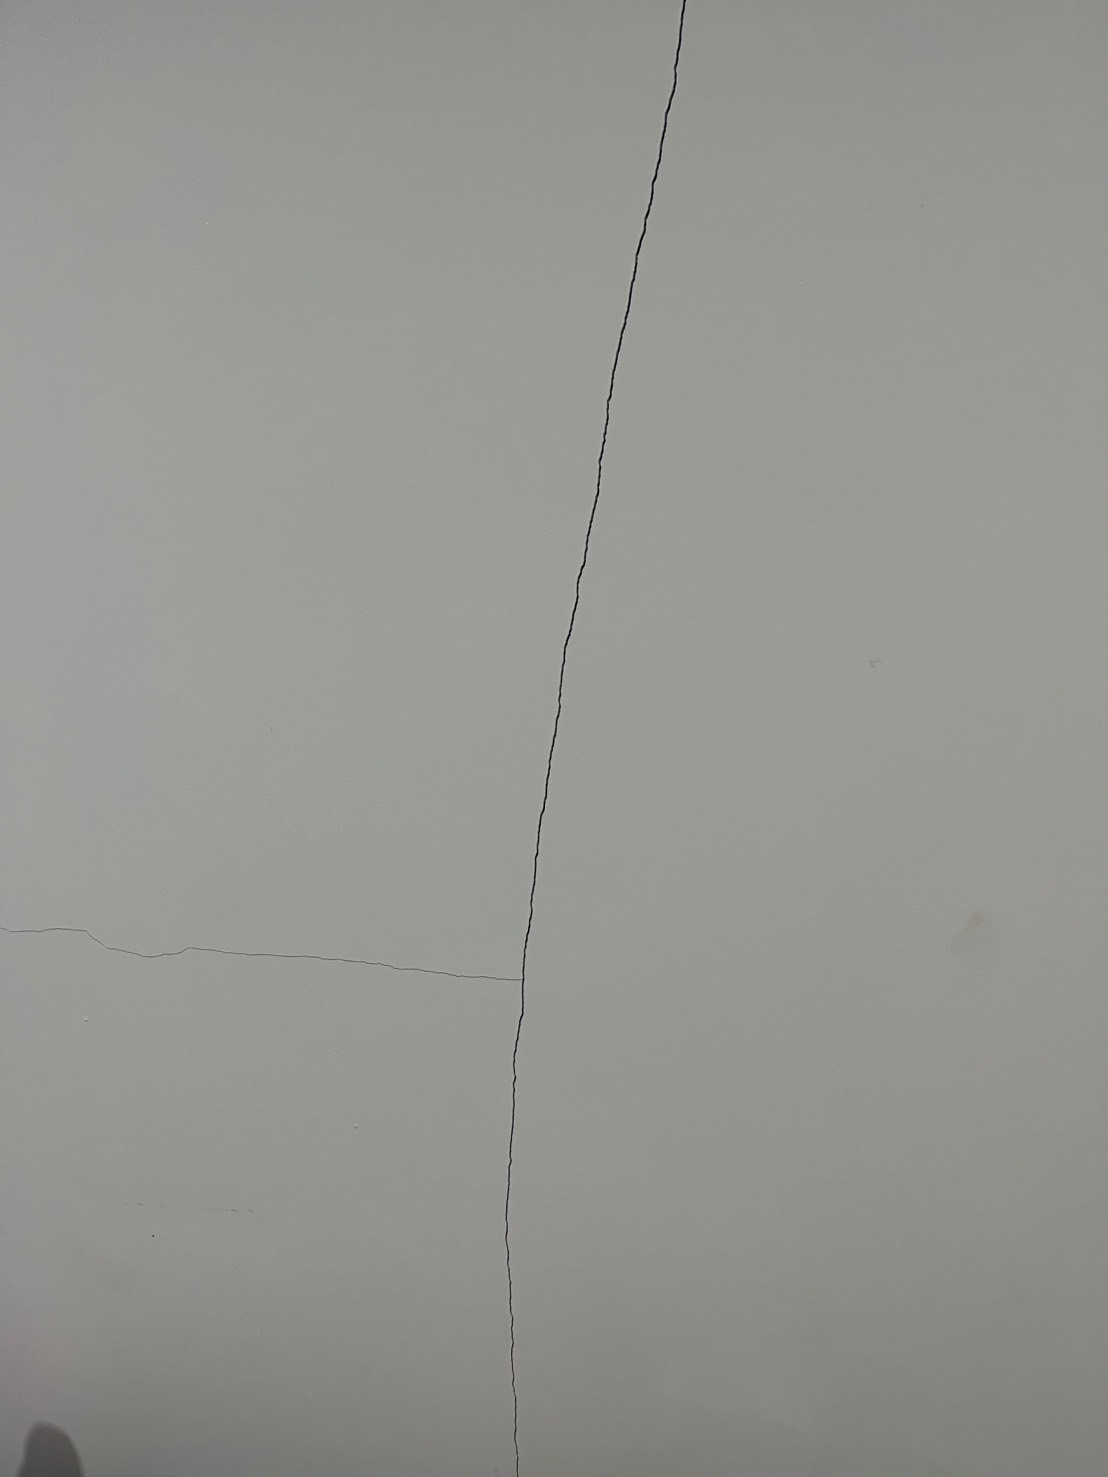Low: (1, 1, 796, 1477)
